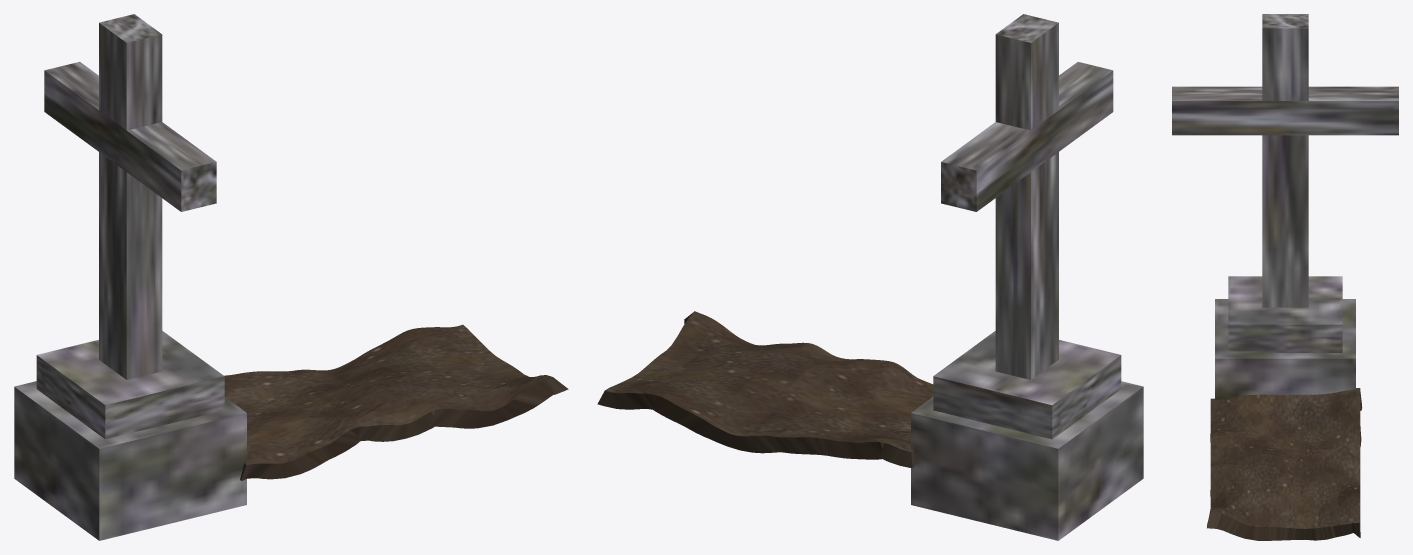
File: GRAVE1.glb
The picture shows the model from 3 angles, left to right: view 1: azimuth 30°, elevation 25°; view 2: azimuth 150°, elevation 25°; view 3: azimuth 270°, elevation 25°; orthographic projection. The views are drawn at different scales.
Visible parts, largest first — view 1: Cube.002, Plane; view 2: Cube.002, Plane; view 3: Cube.002, Plane.
Boxes of the visible parts, x1,y1,x2,y2 form: Cube.002: (14,14,246,540); Plane: (224,324,568,480); Cube.002: (911,14,1143,540); Plane: (597,311,933,467); Cube.002: (1172,14,1398,399); Plane: (1207,388,1362,540).
Size of the model in its own units: 6.55 by 6.24 by 3.34.
Materials: 2 (2 with a texture image).
